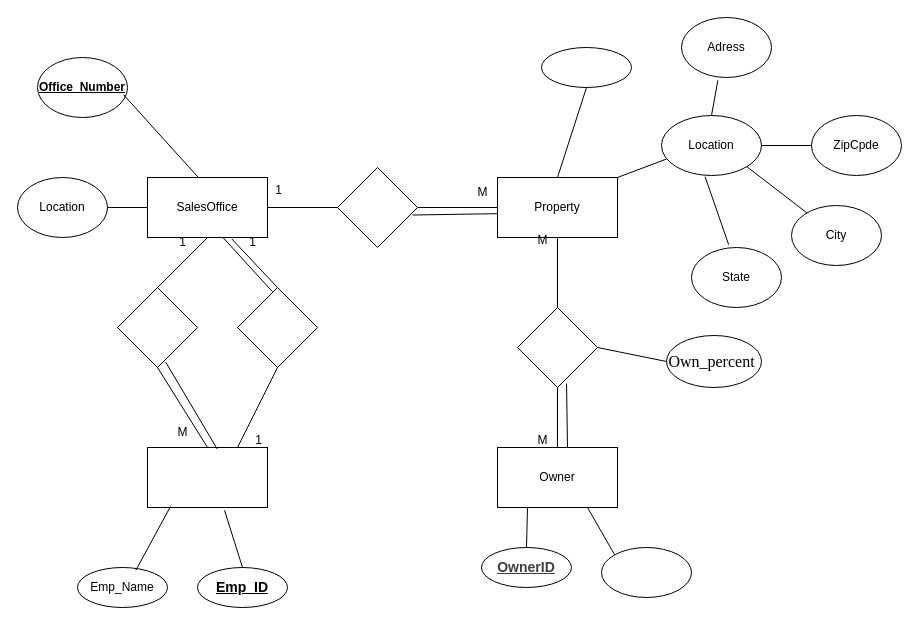
This 919x625 diagram has some shape labels left out. The box of each missing label's shape, as (x1, y1, x2, y2) in pixels:
Assign: (116, 286, 198, 368)
Employee: (146, 446, 268, 508)
List: (336, 166, 418, 248)
Manage: (236, 286, 318, 368)
Own: (516, 306, 598, 388)
Owner_Name: (600, 546, 692, 598)
Prop_ID: (540, 46, 632, 88)
